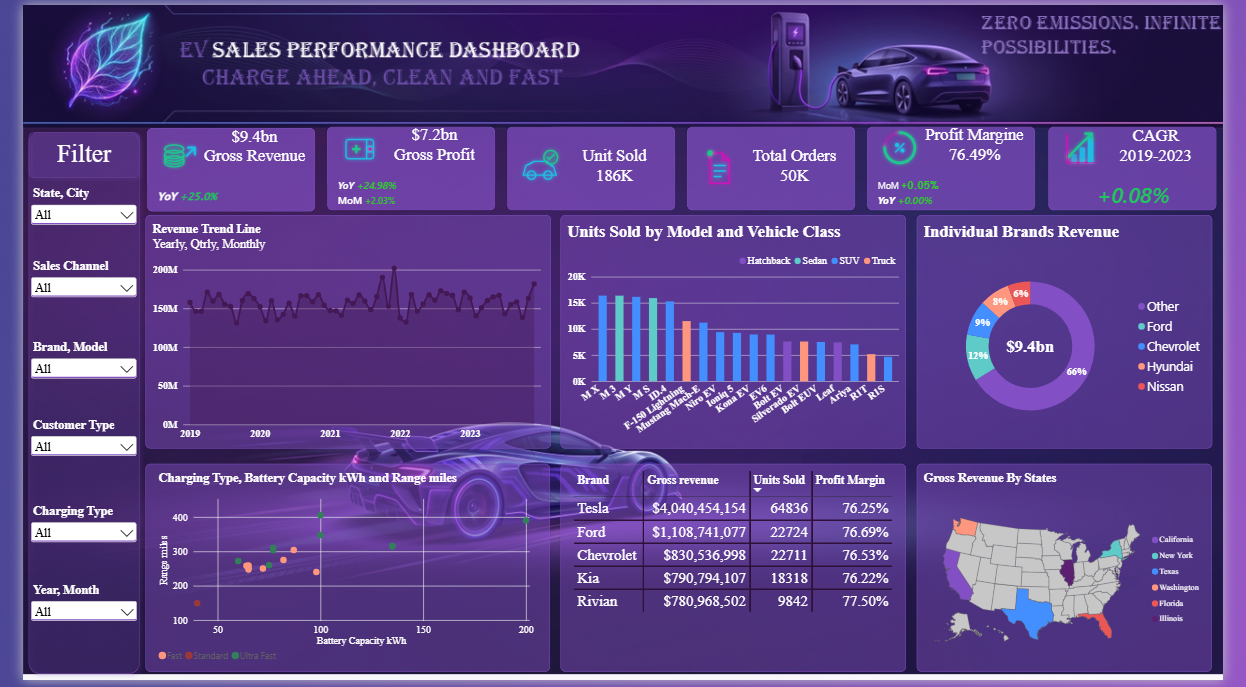

The page's visual inventory and layout, read from the dashboard file:
{"tool":"powerbi","page":{"name":"Page 1","canvas":[1920,1080],"ordinal":0},"visuals":[{"type":"cardVisual","fields":{"Data":["EV Sales Data.Total Current Revenue"]},"box":[197.3,195.3,270,135],"z":0},{"type":"shape","box":[0,246.9,195.6,833.5],"z":0,"group":"g1"},{"type":"slicer","fields":{"Values":["EV Sales Data.State","EV Sales Data.City"]},"box":[7.6,336.1,180,89],"z":0,"group":"g2"},{"type":"cardVisual","fields":{"Data":["EV Sales Data.Gross Profit"]},"box":[485.4,193.4,270,135.4],"z":1000},{"type":"shape","box":[0,248.6,196.2,93.5],"z":1000,"group":"g1"},{"type":"slicer","fields":{"Values":["EV Sales Data.Sales Channel"]},"box":[7.6,445.3,179.6,96.6],"z":1000,"group":"g2"},{"type":"cardVisual","fields":{"Data":["EV Sales Data.Unit Sold"]},"box":[768.9,193.1,259.3,135.9],"z":2000},{"type":"slicer","fields":{"Values":["Calendar.Date.Variation.Date Hierarchy.Year","Calendar.Date.Variation.Date Hierarchy.Month"]},"box":[7.6,936.7,180.4,115.3],"z":2000,"group":"g2"},{"type":"cardVisual","fields":{"Data":["EV Sales Data.Orders Count"]},"box":[1042.4,193.1,275.4,135.9],"z":3000},{"type":"slicer","fields":{"Values":["EV Sales Data.Brand","EV Sales Data.Vehicle Model"]},"box":[7.6,568.6,179.6,96.6],"z":3000,"group":"g2"},{"type":"cardVisual","fields":{"Data":["EV Sales Data.Total Profit Margin %"]},"box":[1332.1,193.1,287.9,135.9],"z":4000},{"type":"slicer","fields":{"Values":["EV Sales Data.Customer Type"]},"box":[7.6,685.9,179.6,96.6],"z":4000,"group":"g2"},{"type":"lineChart","title":"Revenue Trend Line","fields":{"Y":["Sum(EV Sales Data.Total Revenue)"],"Category":["Calendar.Date.Variation.Date Hierarchy.Year","Calendar.Date.Variation.Date Hierarchy.Quarter","Calendar.Date.Variation.Date Hierarchy.Month"]},"box":[195.9,336.3,648.6,373.3],"z":5000},{"type":"slicer","fields":{"Values":["EV Sales Data.Charging Type"]},"box":[7.6,817.4,179.6,96.6],"z":5000,"group":"g2"},{"type":"columnChart","title":"Units Sold By Model And Vehicle Class","fields":{"Category":["EV Sales Data.Vehicle Model"],"Y":["Sum(EV Sales Data.Units Sold)"],"Series":["EV Sales Data.Vehicle Class"]},"box":[860,336.2,552.5,373.7],"z":6000},{"type":"donutChart","title":"Individual Brands Revenue","fields":{"Y":["Sum(EV Sales Data.Total Revenue)"],"Category":["EV Sales Data.Brand (groups)"]},"box":[1430.3,336.3,473.1,373.3],"z":7000},{"type":"tableEx","fields":{"Values":["EV Sales Data.Brand","Sum(EV Sales Data.Total Revenue)","Sum(EV Sales Data.Units Sold)","EV Sales Data.Total Profit %"]},"box":[860,734.9,552.5,332.6],"z":8000},{"type":"shapeMap","title":"Gross Revenue By States","fields":{"Value":["Sum(EV Sales Data.Total Revenue)"],"Category":["EV Sales Data.State"],"Series":["EV Sales Data.State"]},"box":[1430.4,734.9,472,332.6],"z":9000},{"type":"scatterChart","fields":{"X":["EV Sales Data.Battery Capacity kWh"],"Y":["EV Sales Data.Range miles"],"Series":["EV Sales Data.Charging Type"]},"box":[196.7,734.9,647.3,332.6],"z":10000},{"type":"group","id":"g1","title":"Filter Shapes","box":[0,246.9,196.2,833.5],"z":11000},{"type":"cardVisual","fields":{"Data":["EV Sales Data.CAGR Text Label"]},"box":[1632.5,193.1,277.1,135.9],"z":12000},{"type":"actionButton","box":[7.6,195.6,180.4,51.3],"z":13000},{"type":"group","id":"g2","title":"Slicers","box":[7.6,336.1,180.4,715.8],"z":14000}]}

Visuals, with their boxes in screenshot pixels (x1, y1, x2, y2), scaled from the page's 1920x1080 canvas onto the 1246x687 screenshot:
cardVisual - EV Sales Data.Total Current Revenue: [left=128, top=124, right=303, bottom=210]
shape: [left=0, top=157, right=127, bottom=686]
slicer - EV Sales Data.State x EV Sales Data.City: [left=5, top=214, right=122, bottom=270]
cardVisual - EV Sales Data.Gross Profit: [left=315, top=123, right=490, bottom=209]
shape: [left=0, top=158, right=127, bottom=218]
slicer - EV Sales Data.Sales Channel: [left=5, top=283, right=121, bottom=345]
cardVisual - EV Sales Data.Unit Sold: [left=499, top=123, right=667, bottom=209]
slicer - Calendar.Date.Variation.Date Hierarchy.Year x Calendar.Date.Variation.Date Hierarchy.Month: [left=5, top=596, right=122, bottom=669]
cardVisual - EV Sales Data.Orders Count: [left=676, top=123, right=855, bottom=209]
slicer - EV Sales Data.Brand x EV Sales Data.Vehicle Model: [left=5, top=362, right=121, bottom=423]
cardVisual - EV Sales Data.Total Profit Margin %: [left=864, top=123, right=1051, bottom=209]
slicer - EV Sales Data.Customer Type: [left=5, top=436, right=121, bottom=498]
"Revenue Trend Line" lineChart: [left=127, top=214, right=548, bottom=451]
slicer - EV Sales Data.Charging Type: [left=5, top=520, right=121, bottom=581]
"Units Sold By Model And Vehicle Class" columnChart: [left=558, top=214, right=917, bottom=452]
"Individual Brands Revenue" donutChart: [left=928, top=214, right=1235, bottom=451]
tableEx - EV Sales Data.Brand x Sum(EV Sales Data.Total Revenue): [left=558, top=467, right=917, bottom=679]
"Gross Revenue By States" shapeMap: [left=928, top=467, right=1235, bottom=679]
scatterChart - EV Sales Data.Battery Capacity kWh x EV Sales Data.Range miles: [left=128, top=467, right=548, bottom=679]
"Filter Shapes" group: [left=0, top=157, right=127, bottom=686]
cardVisual - EV Sales Data.CAGR Text Label: [left=1059, top=123, right=1239, bottom=209]
actionButton: [left=5, top=124, right=122, bottom=157]
"Slicers" group: [left=5, top=214, right=122, bottom=669]
